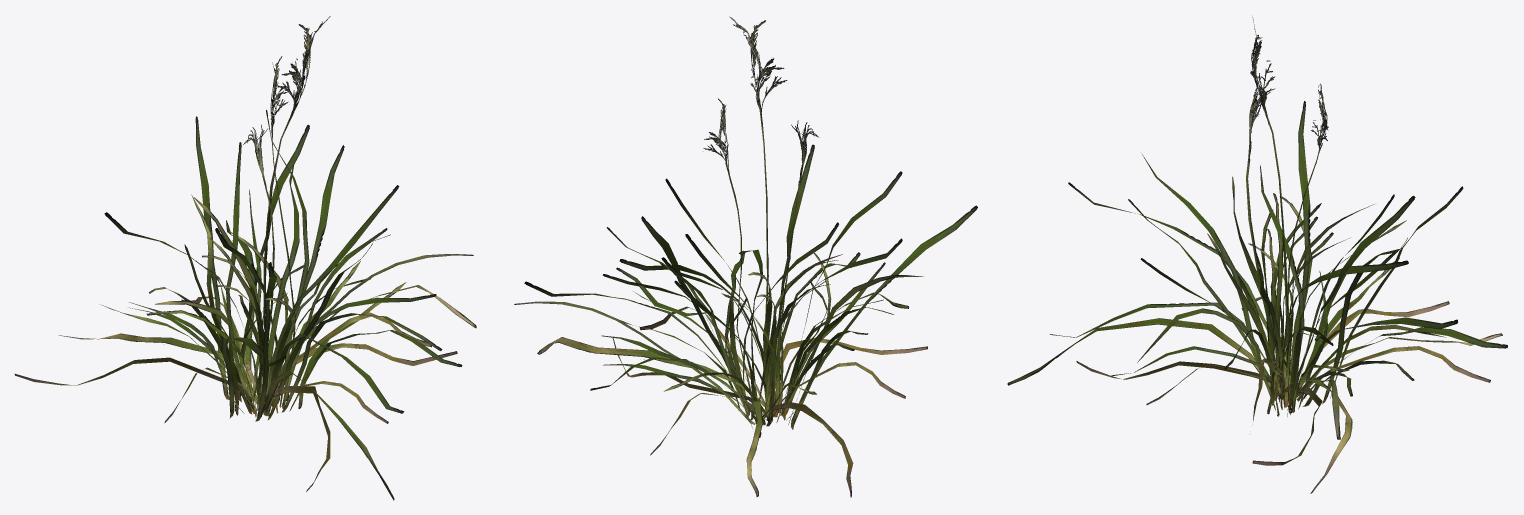
Rendered from grass_mid_b.gltf.
3 views of the same model, side by side, from view 1: azimuth 30°, elevation 25°; view 2: azimuth 150°, elevation 25°; view 3: azimuth 270°, elevation 25° (orthographic). The views are drawn at different scales.
Visible parts, largest first — view 1: grass_medium_01_mid_b_LOD0; view 2: grass_medium_01_mid_b_LOD0; view 3: grass_medium_01_mid_b_LOD0.
Part boxes in pixels (bbox=[...]): grass_medium_01_mid_b_LOD0: bbox=[14, 16, 476, 500]; grass_medium_01_mid_b_LOD0: bbox=[514, 16, 977, 497]; grass_medium_01_mid_b_LOD0: bbox=[1007, 17, 1507, 493].
Size of the model in its own units: 0.1878 by 0.1777 by 0.201.
Materials: 1 (1 with a texture image).
